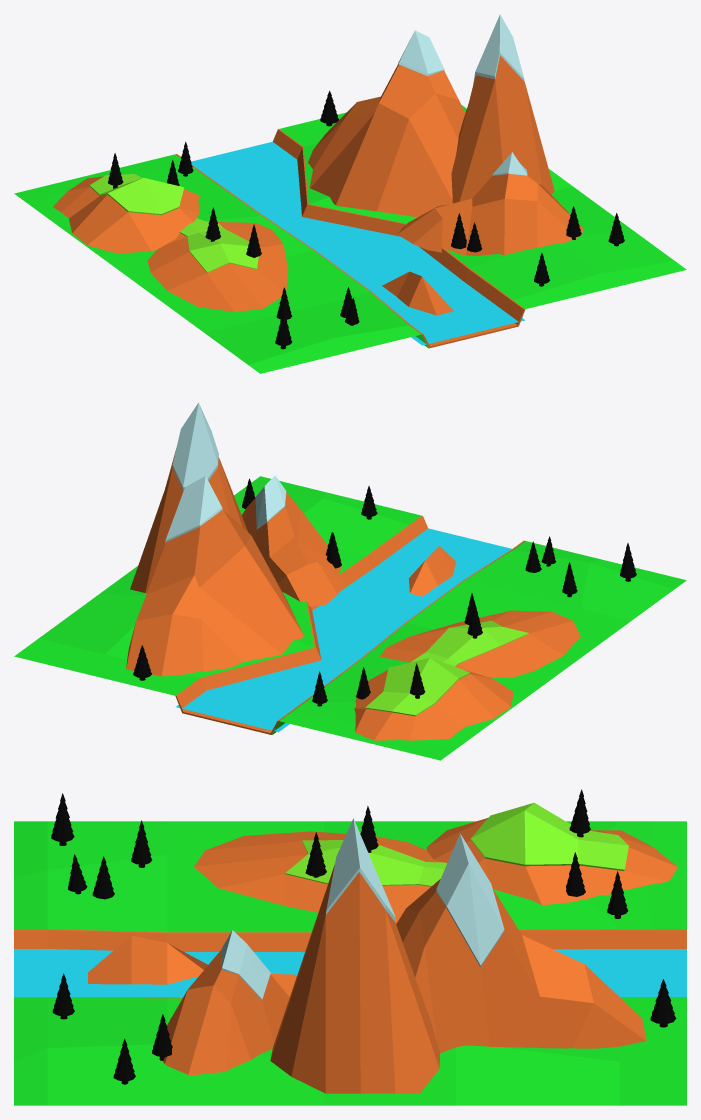
Rendered from Environment_game_Section_03.FBX.
The picture shows the model from 3 angles, top to bottom: view 1: azimuth 30°, elevation 25°; view 2: azimuth 150°, elevation 25°; view 3: azimuth 270°, elevation 25°; orthographic projection. The views are drawn at different scales.
Parts seen in each view (by area): view 1: ground, Plane004, water, Plane010, Plane003, Plane002, Ground water, Plane006, Plane005, Plane007, Plane009, Plane011; view 2: ground, Plane004, water, Ground water, Plane006, Plane002, Plane010, Plane005, Plane003, Plane009, Plane007, Plane011 (+1 smaller); view 3: ground, Plane003, Plane004, Ground water, water, Plane010, Plane002, Plane006, Plane005, Plane011, Plane007, Plane009 (+12 smaller).
Part boxes in pixels (<box>): ground: <box>14,105,686,373</box>; Plane004: <box>308,64,465,217</box>; water: <box>191,141,525,345</box>; Plane010: <box>397,171,583,255</box>; Plane003: <box>451,55,554,203</box>; Plane002: <box>147,222,288,311</box>; Ground water: <box>176,129,525,348</box>; Plane006: <box>53,176,200,253</box>; Plane005: <box>89,174,184,215</box>; Plane007: <box>180,218,260,272</box>; Plane009: <box>473,14,524,83</box>; Plane011: <box>398,30,444,76</box>; ground: <box>14,476,686,760</box>; Plane004: <box>126,509,304,676</box>; water: <box>176,528,511,732</box>; Ground water: <box>175,515,524,734</box>; Plane006: <box>354,670,513,740</box>; Plane002: <box>380,610,580,678</box>; Plane010: <box>241,492,342,606</box>; Plane005: <box>365,658,470,716</box>; Plane003: <box>130,450,247,593</box>; Plane009: <box>172,402,218,490</box>; Plane007: <box>410,620,529,666</box>; Plane011: <box>165,476,222,543</box>; ground: <box>14,821,686,1105</box>; Plane003: <box>270,865,440,1093</box>; Plane004: <box>396,879,646,1052</box>; Ground water: <box>14,929,686,998</box>; water: <box>14,949,686,997</box>; Plane010: <box>163,949,296,1075</box>; Plane002: <box>194,831,440,923</box>; Plane006: <box>426,818,677,905</box>; Plane005: <box>470,802,628,870</box>; Plane011: <box>436,833,504,966</box>; Plane007: <box>285,840,446,886</box>; Plane009: <box>326,818,395,922</box>.
Bounding box in the file's own units: 50 × 21.93 × 50.
